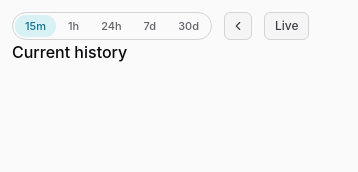
Test: offers the same direct range selection and past/live navigation as Timeline
This screenshot has width=358, height=172.
Click the radio button labelled "24h". click: (111, 26)
box: 91,15 -> 132,37
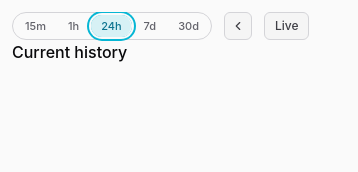
Expected: the radio button labelled "24h" is checked, 91,15 -> 132,37
Click the button named "Previous container range". click: (238, 26)
box: 224,12 -> 252,40
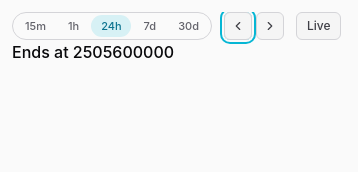
Click the button named "Next container range". click: (270, 26)
box: 256,12 -> 284,40
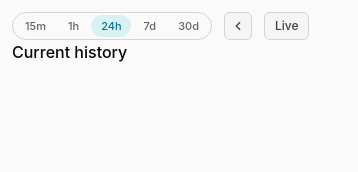
Expected: the text "Current history" is shown, 12,42 -> 127,62
Click the button named "Previous container range". click: (238, 26)
box: 224,12 -> 252,40
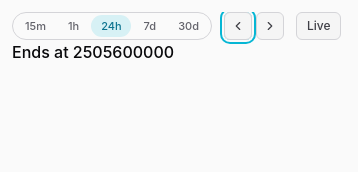
Click the button "Live". click: (319, 26)
box: 296,12 -> 341,40
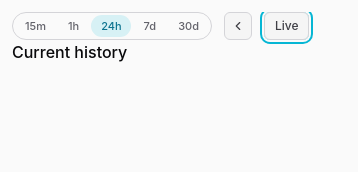
Expected: the text "Current history" is shown, 12,42 -> 127,62
